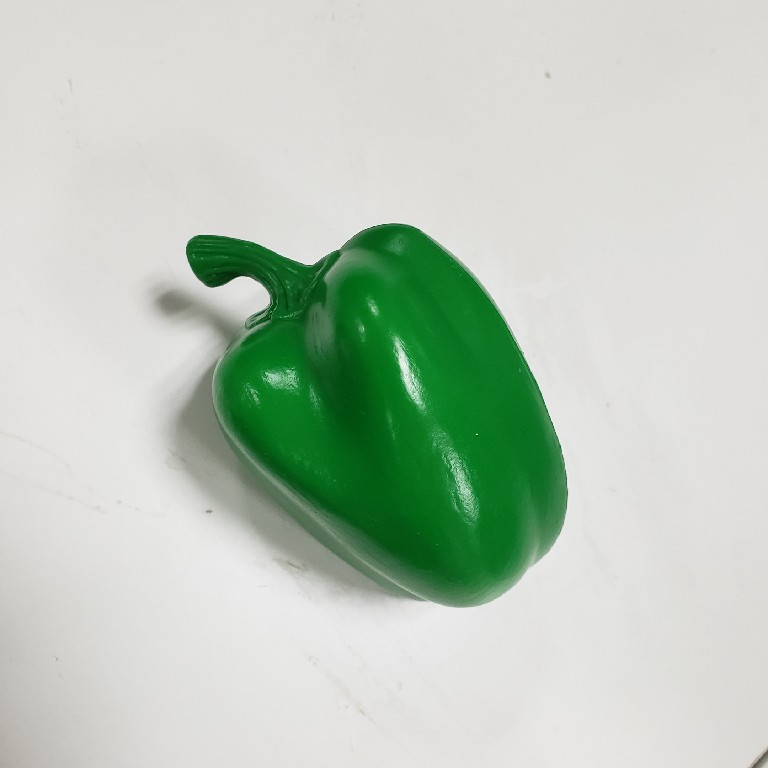fruit_pepper: (185, 218, 572, 613)
